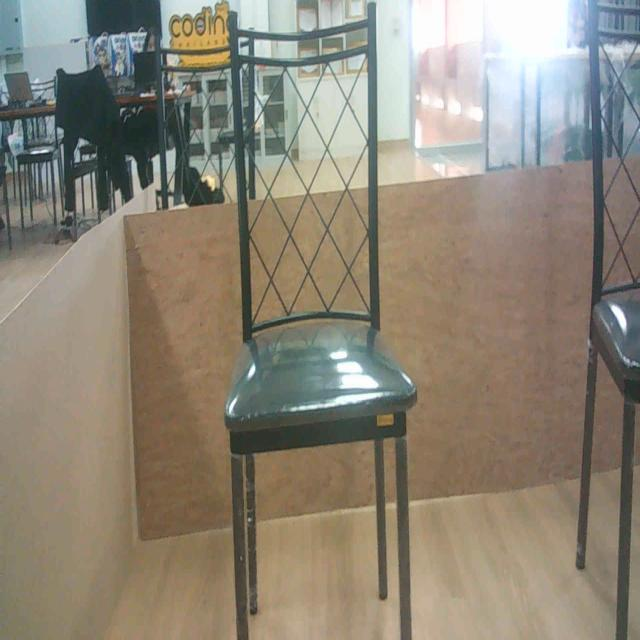emtpy: (216, 0, 425, 640)
